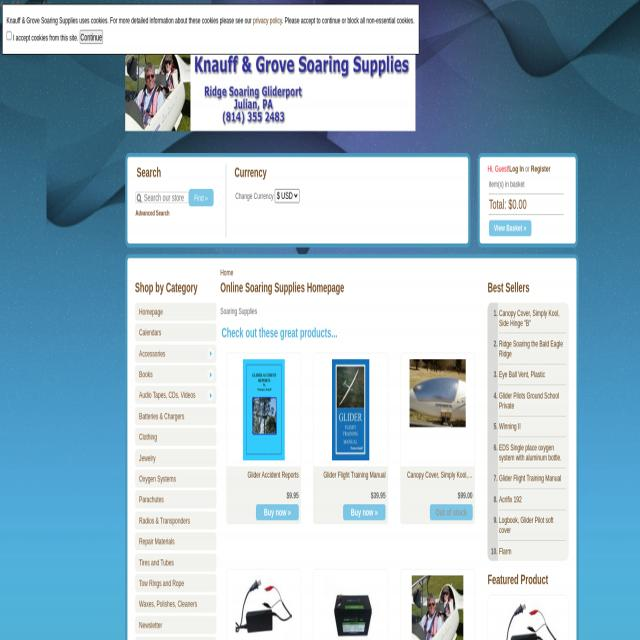button: (125, 39, 415, 131), (400, 568, 474, 640), (312, 569, 387, 640), (227, 570, 300, 638), (243, 360, 285, 460), (410, 359, 466, 428), (332, 360, 370, 460), (488, 593, 568, 640), (136, 303, 217, 321), (136, 324, 217, 342), (136, 344, 217, 362), (136, 366, 217, 384), (136, 386, 217, 404), (136, 408, 217, 426), (136, 428, 217, 446), (136, 448, 217, 466), (136, 470, 217, 488), (136, 512, 217, 530), (136, 532, 217, 550), (136, 553, 217, 571), (136, 574, 217, 592), (136, 595, 217, 613), (136, 491, 217, 508), (136, 617, 217, 633), (256, 504, 299, 520), (343, 504, 386, 520), (489, 220, 531, 236), (430, 504, 472, 520), (188, 189, 214, 207), (80, 30, 102, 44)
field: (136, 192, 188, 202), (274, 189, 300, 203), (6, 30, 12, 40)
